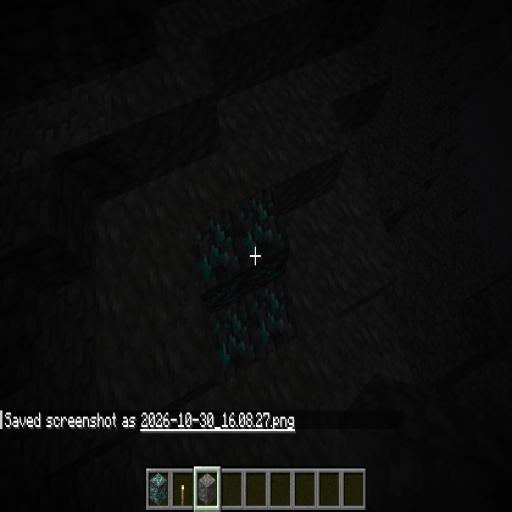diamond ore: (184, 191, 302, 368)
